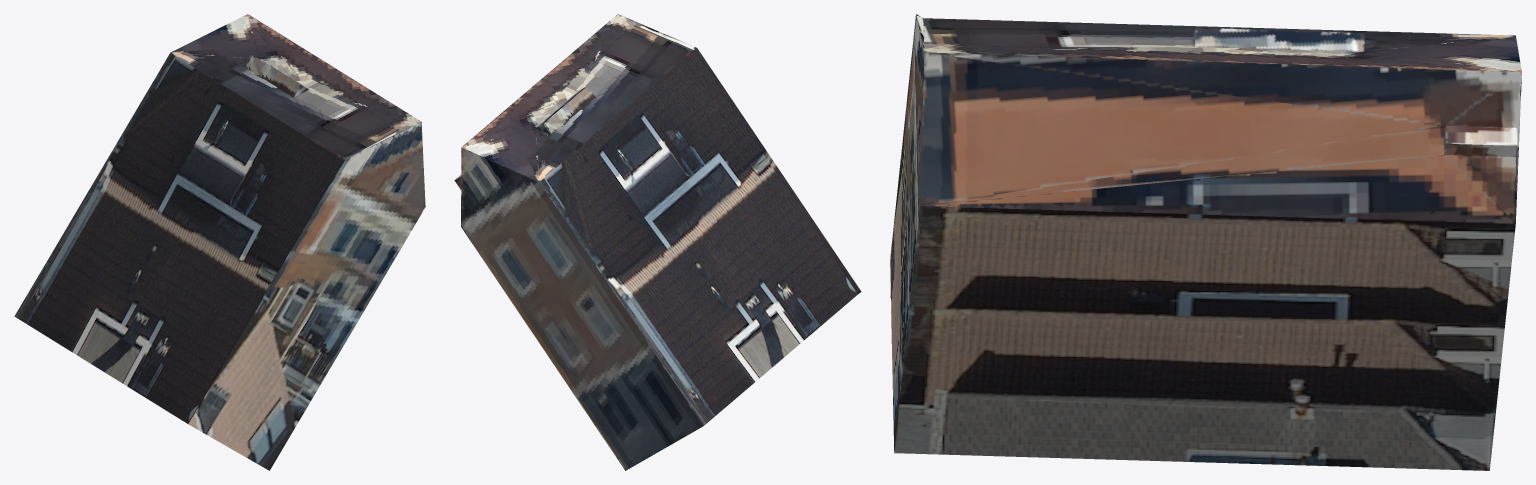
3 renders of one model, left to right at view 1: azimuth 30°, elevation 25°; view 2: azimuth 150°, elevation 25°; view 3: azimuth 270°, elevation 25°, orthographic. The views are drawn at different scales.
Visible parts, largest first — view 1: BAG_0599100000688731 (×4); view 2: BAG_0599100000688731 (×5); view 3: BAG_0599100000688731 (×7).
Boxes of the visible parts, x1=… form: BAG_0599100000688731 (×4): x1=14, y1=14, x2=425, y2=470; BAG_0599100000688731 (×5): x1=461, y1=14, x2=861, y2=470; BAG_0599100000688731 (×7): x1=890, y1=14, x2=1521, y2=470.
Size of the model in its own units: 10.58 by 12.73 by 12.94.
7 materials, 7 textured.
